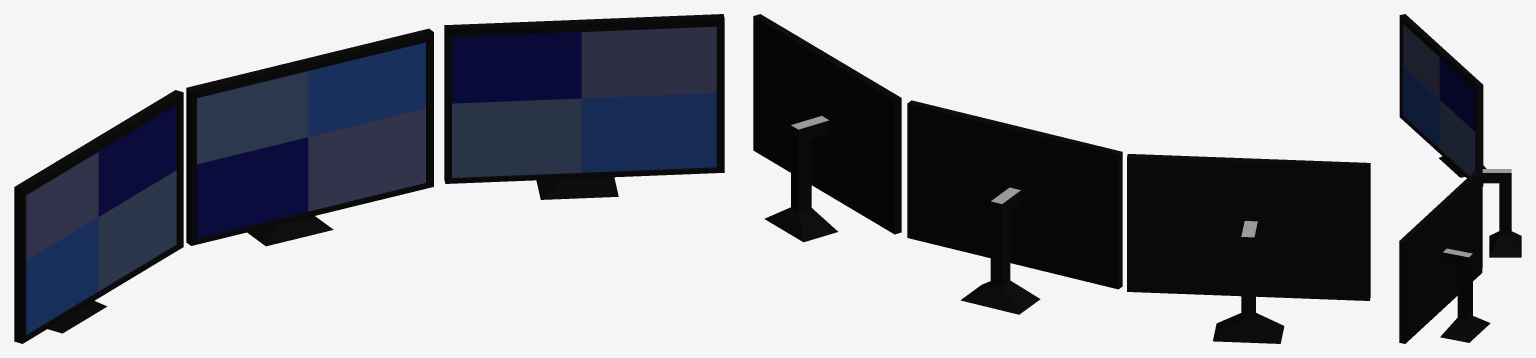
File: monitores de vigilancia.fbx
The picture shows the model from 3 angles, left to right: view 1: azimuth 30°, elevation 25°; view 2: azimuth 150°, elevation 25°; view 3: azimuth 270°, elevation 25°; orthographic projection. The views are drawn at different scales.
Visible parts, largest first — view 1: monitor1, monitor, monitor2; view 2: monitor2, monitor, monitor1; view 3: monitor1, monitor2, monitor.
Part boxes in pixels (bbox=[...]): monitor1: bbox=[444, 14, 724, 199]; monitor: bbox=[186, 28, 433, 246]; monitor2: bbox=[14, 90, 183, 343]; monitor2: bbox=[1127, 154, 1370, 343]; monitor: bbox=[907, 100, 1122, 314]; monitor1: bbox=[753, 14, 901, 242]; monitor1: bbox=[1399, 170, 1490, 343]; monitor2: bbox=[1399, 14, 1486, 186]; monitor: bbox=[1476, 88, 1521, 267].
Bounding box in the file's own units: 25.36 × 6.25 × 5.74.
